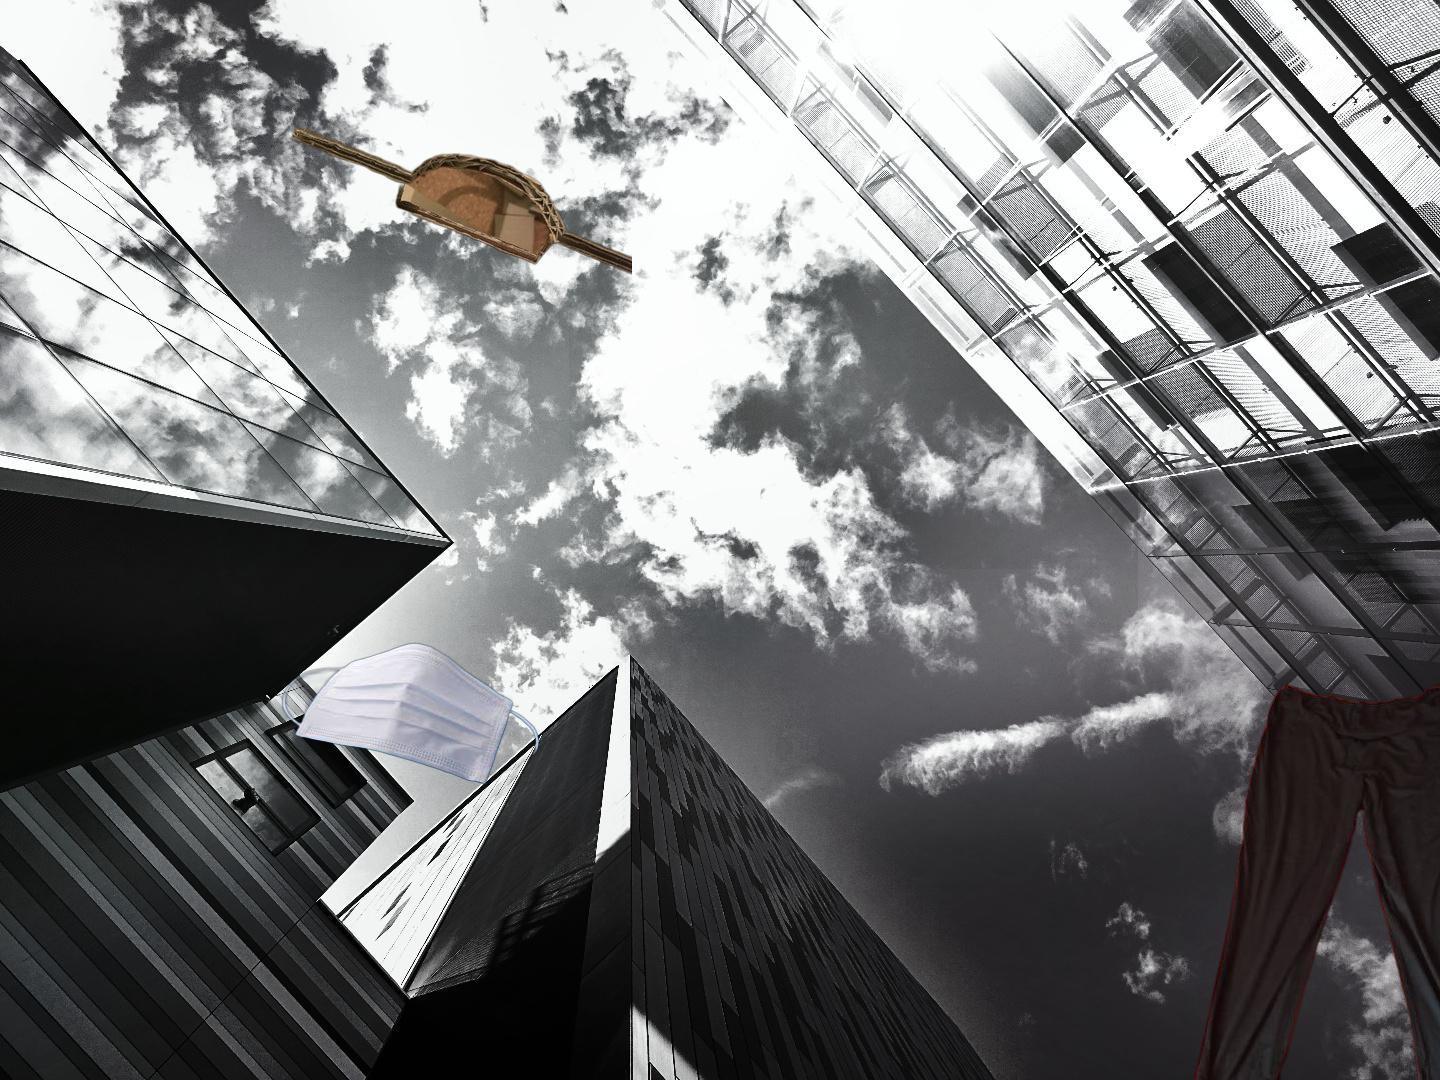clothes: (1184, 680, 1440, 1080)
trash: (279, 638, 542, 790)
trashbox-cardboard: (232, 96, 632, 396)
